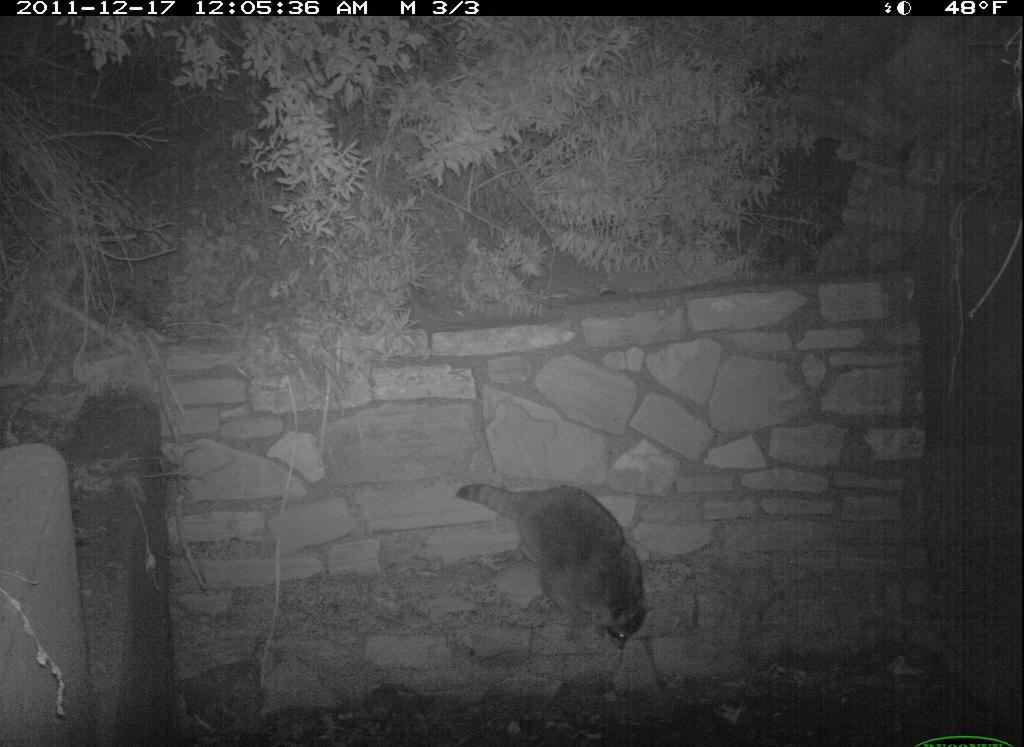raccoon: (454, 463, 661, 666)
